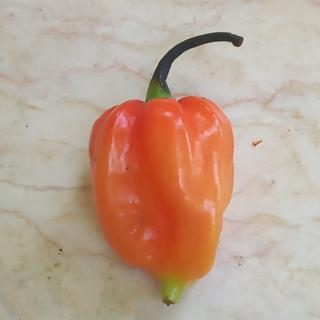Grade-A: (83, 95, 237, 284)
